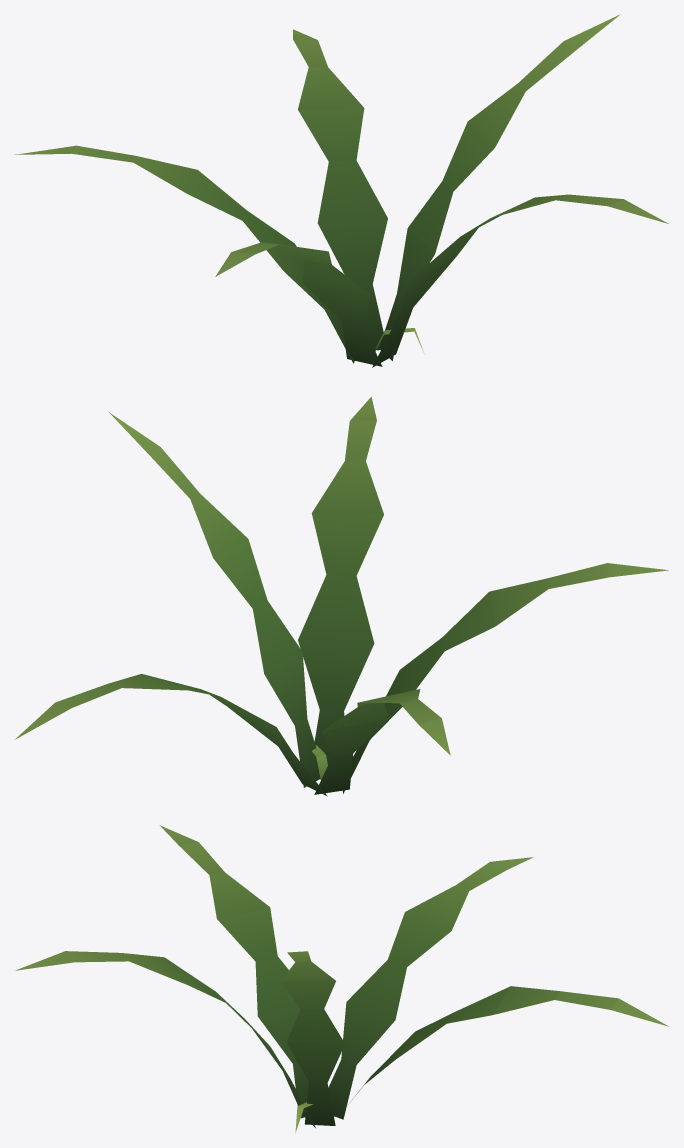
The model's file is fern_small_01.glb.
3 renders of one model, top to bottom at view 1: azimuth 30°, elevation 25°; view 2: azimuth 150°, elevation 25°; view 3: azimuth 270°, elevation 25°, orthographic. The views are drawn at different scales.
Visible parts, largest first — view 1: fern_small_01_mesh; view 2: fern_small_01_mesh; view 3: fern_small_01_mesh.
Boxes of the visible parts, <box> form: fern_small_01_mesh: <box>14,14,668,367</box>; fern_small_01_mesh: <box>15,396,668,796</box>; fern_small_01_mesh: <box>14,825,668,1133</box>.
Bounding box in the file's own units: 0.5882 × 0.3508 × 0.7744.
